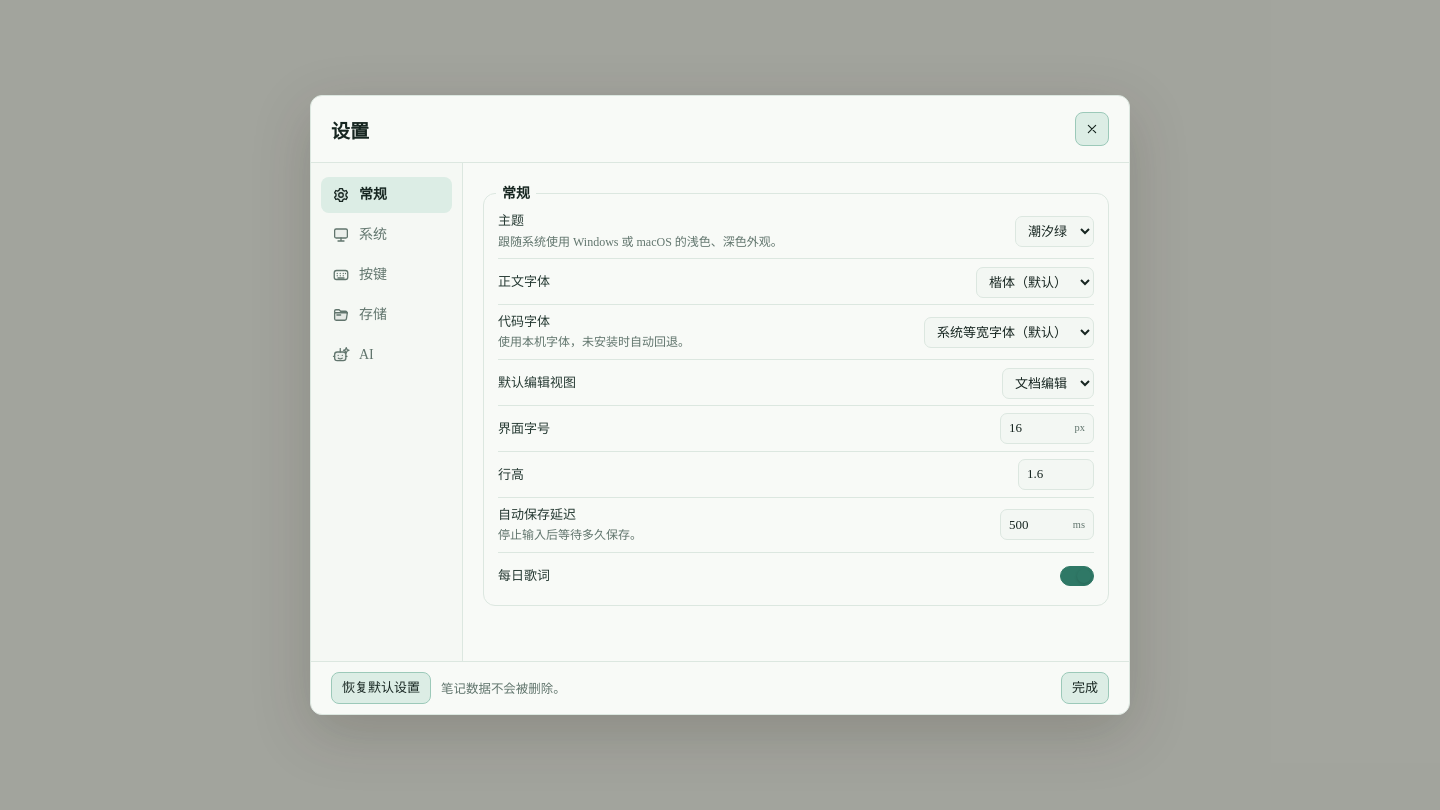
SettingsView › records a shortcut from the keyboard instead of asking for accelerator text
The width and height of the screenshot is (1440, 810).
Click the tab "系统".
click(386, 235)  # box [321,217,452,253]
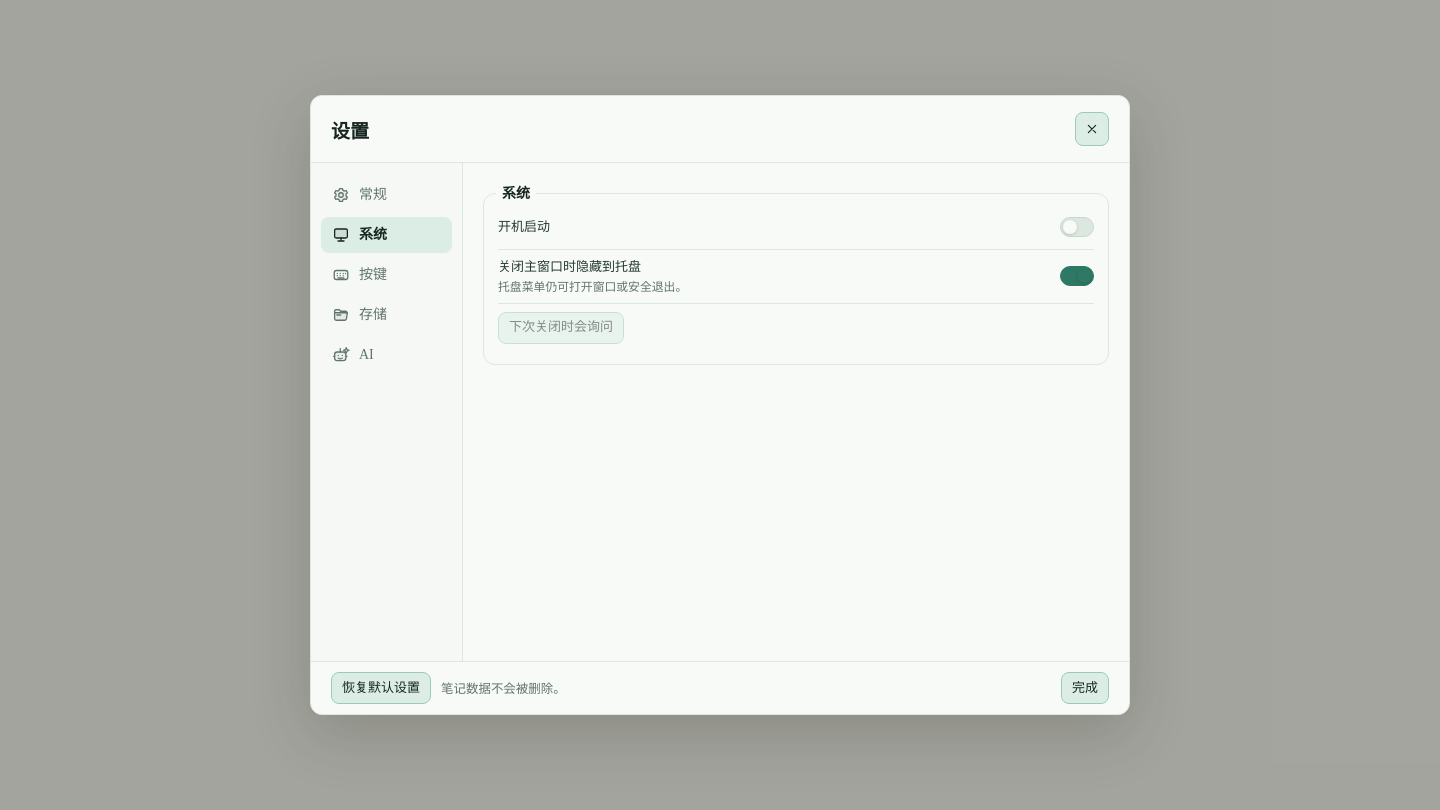
Click the tab "按键".
click(386, 275)  # box [321,257,452,293]
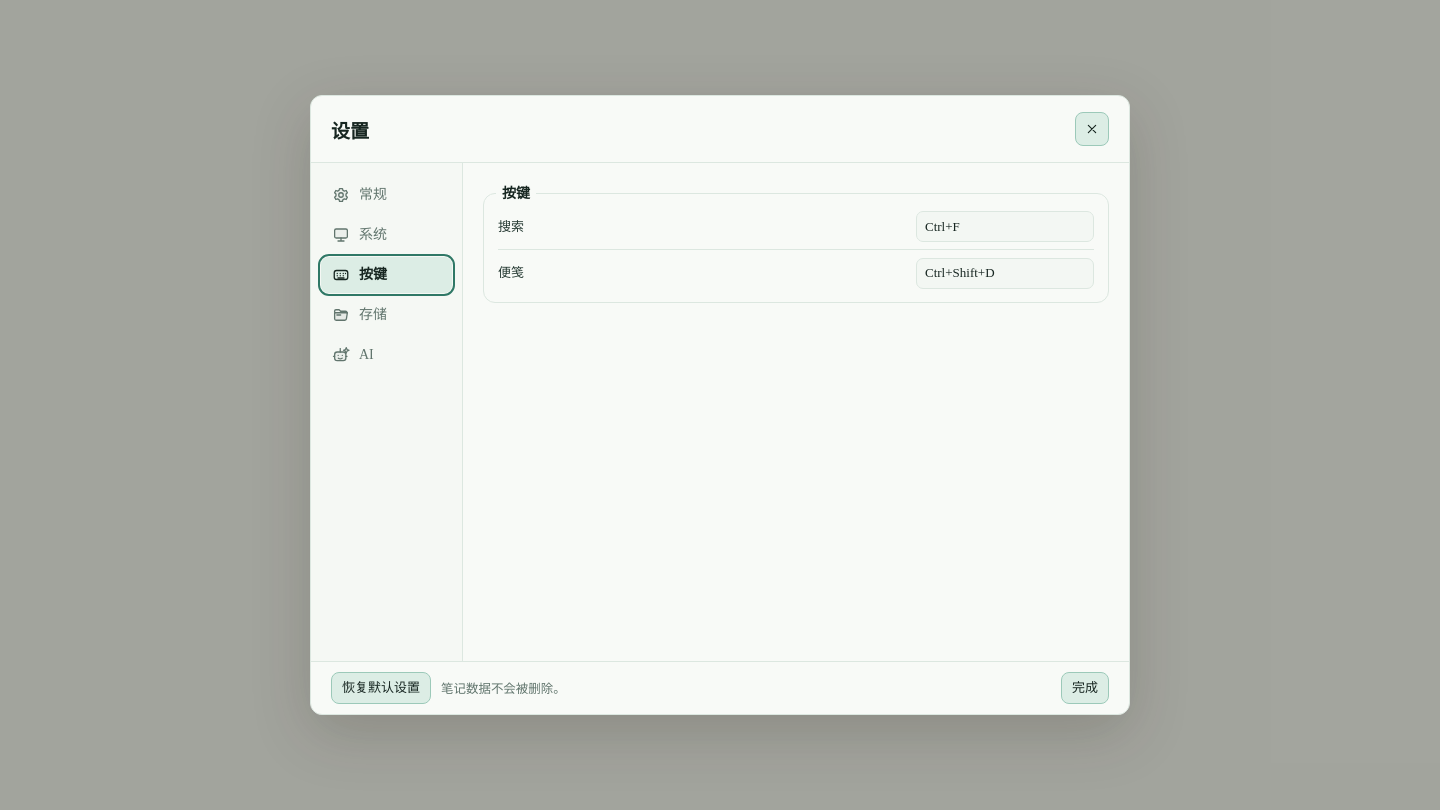
Click the field named "便笺快捷键".
click(1005, 273)  # box [916,258,1094,288]
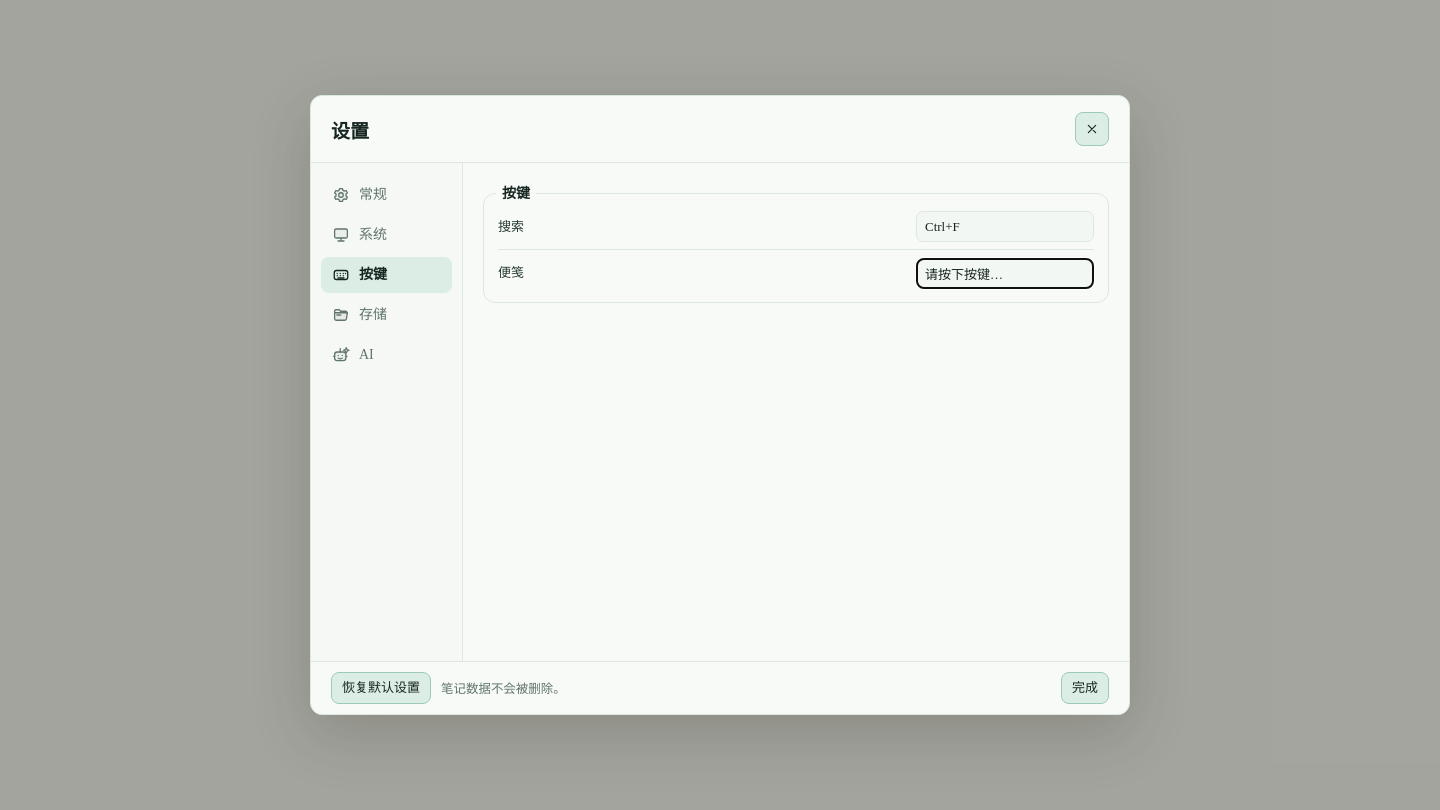
Type keys "{Control>}{Alt>}n{/Alt}{/Control}"
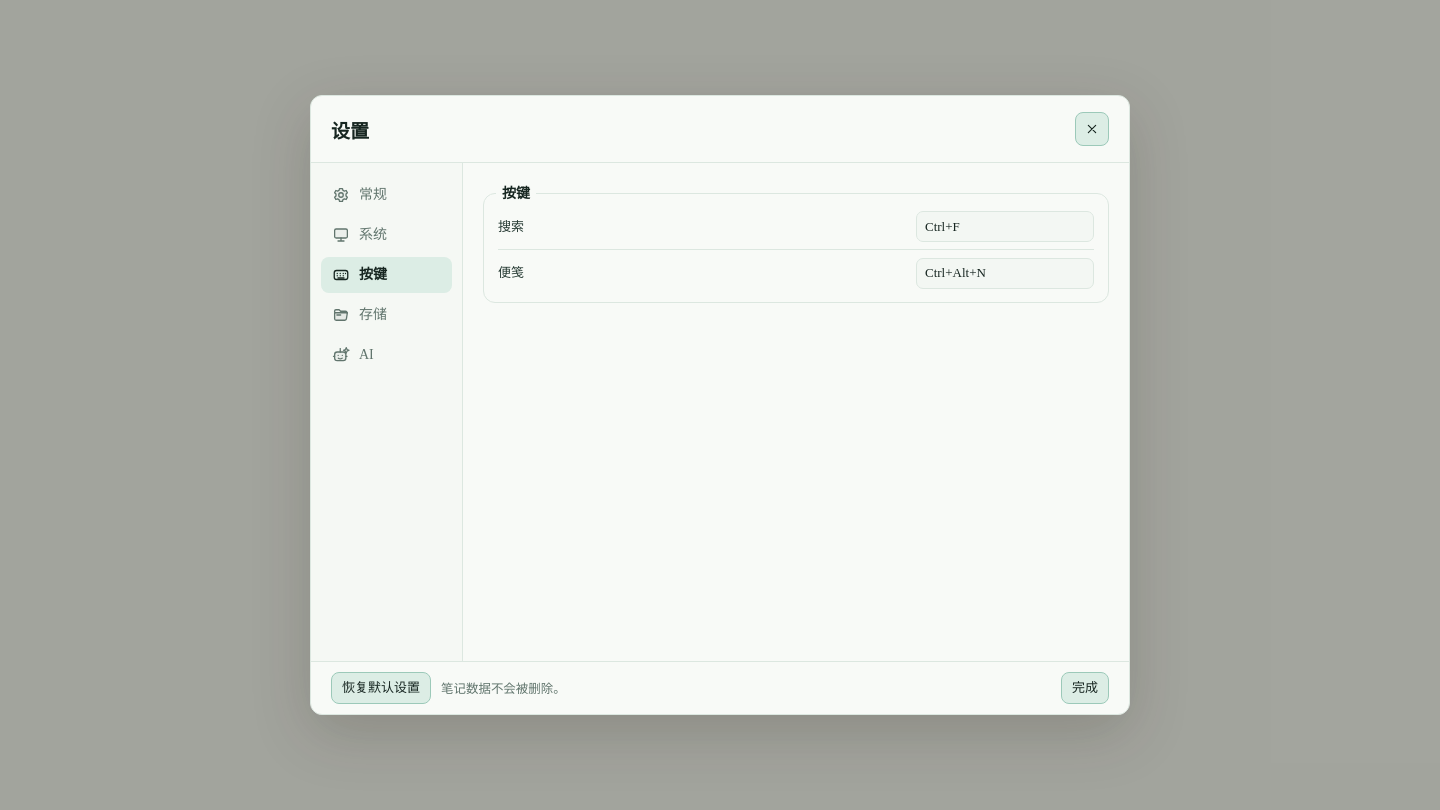
Now the field named "便笺快捷键" holds "Ctrl+Alt+N", box [916,258,1094,288]
